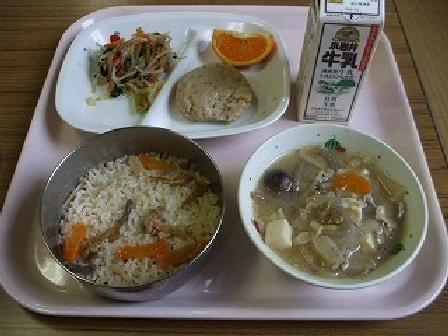Citrus: (210, 18, 277, 68)
Milk: (294, 0, 392, 123)
Mixed rice: (43, 129, 217, 292)
Salad: (87, 26, 182, 105)
Soups: (246, 130, 426, 287)
cutlet: (166, 67, 260, 125)
